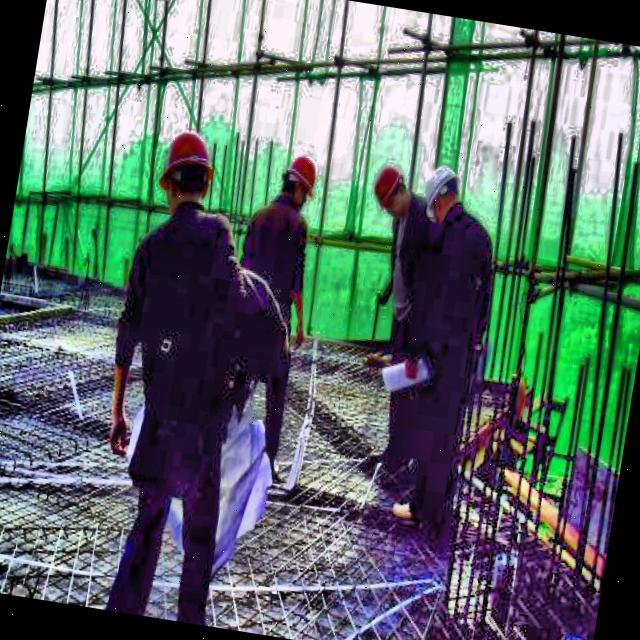helmet: (150, 120, 222, 224), (418, 160, 469, 227), (366, 165, 419, 222), (278, 148, 320, 212)
